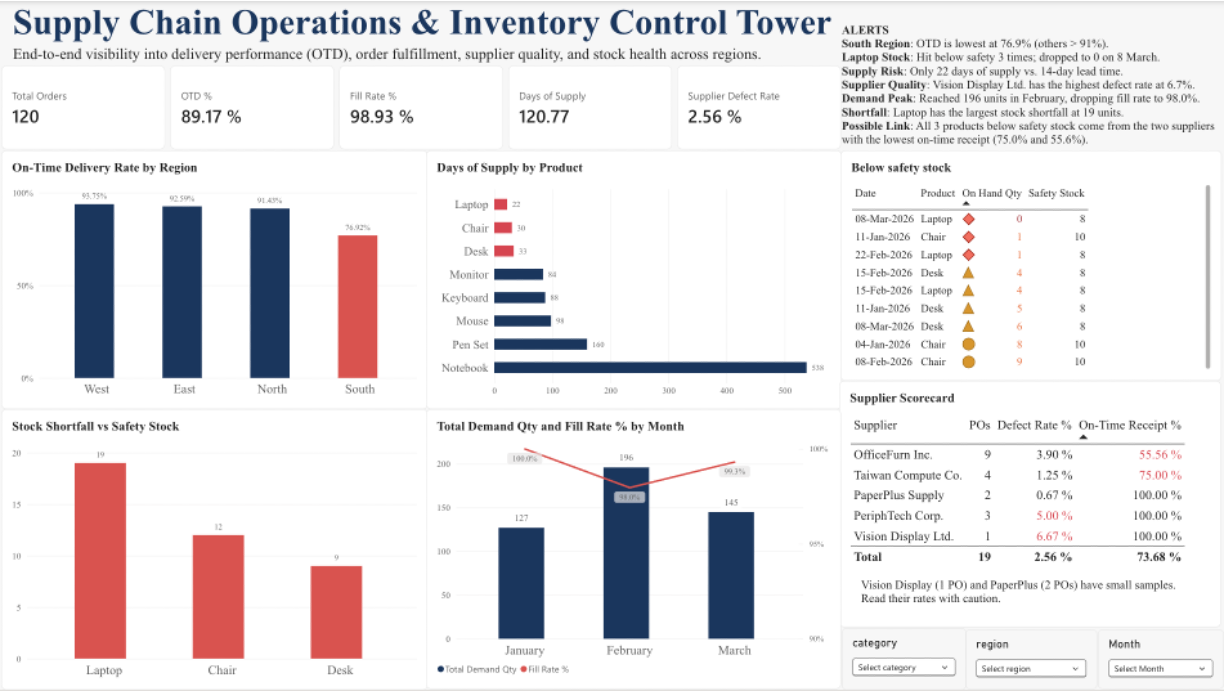

What the dashboard file says about the page in this screenshot:
{"tool":"powerbi","page":{"name":"Page 1","canvas":[1920,1080],"ordinal":0},"visuals":[{"type":"cardVisual","fields":{"Data":["fact_orders.Total Orders","fact_orders.OTD%","fact_orders.Fill Rate %","fact_inventory.Days of Supply","fact_inventory.Supplier Defect Rate"]},"box":[3,100.9,1321.1,132.8],"z":0},{"type":"clusteredColumnChart","title":"On-Time Delivery Rate by Region","fields":{"Category":["dim_region.region"],"Y":["fact_orders.OTD%"]},"box":[3,233.7,669.2,405.9],"z":1000},{"type":"clusteredColumnChart","title":"Stock Shortfall vs Safety Stock","fields":{"Category":["dim_product.product"],"Y":["fact_inventory.Shortfall Qty"]},"box":[3,639.6,669.2,440.4],"z":2000},{"type":"clusteredBarChart","title":"Days of Supply by Product","fields":{"Category":["dim_product.product"],"Y":["fact_inventory.Days of Supply"]},"box":[669.2,233.7,651.9,405.9],"z":3000},{"type":"tableEx","title":"Supplier Scorecard","fields":{"Values":["dim_supplier.supplier_name","fact_purchase_orders.PO Count","fact_inventory.Supplier Defect Rate","fact_purchase_orders.Supplier On-Time Receipt %"]},"box":[1316.8,594.7,598.9,386.5],"z":4000},{"type":"lineClusteredColumnComboChart","fields":{"Category":["dim_date.Date.Variation.Date Hierarchy.Month"],"Y":["fact_orders.Total Demand Qty"],"Y2":["fact_orders.Fill Rate %"]},"box":[668.9,640.9,651.1,439.1],"z":5000},{"type":"tableEx","title":"Below safety stock","fields":{"Values":["fact_inventory.snapshot_date","dim_product.product","Sum(fact_inventory.on_hand_qty)","Sum(fact_inventory.safety_stock)"]},"box":[1318.6,233.7,597.8,361.6],"z":6000},{"type":"listSlicer","fields":{"Values":["dim_product.category"]},"box":[1319.4,982.2,195.3,97.6],"z":7000},{"type":"listSlicer","fields":{"Values":["dim_region.region"]},"box":[1514.7,985.1,207.1,94.7],"z":8000},{"type":"listSlicer","fields":{"Values":["dim_date.Month"]},"box":[1722.5,985.3,197.5,94],"z":9000},{"type":"textbox","box":[100,100,300,300],"z":10000},{"type":"textbox","box":[100,100,300,300],"z":11000},{"type":"textbox","box":[19.7,0,1899.2,68.9],"z":12000},{"type":"textbox","box":[19.7,68.9,1840.2,32],"z":13000},{"type":"textbox","box":[1321,101,539,150],"z":14000},{"type":"textbox","box":[1320,34.6,599,199.1],"z":15000},{"type":"textbox","box":[100,100,300,300],"z":16000},{"type":"textbox","box":[1350,905,500,80],"z":21000}]}

Visuals, with their boxes in screenshot pixels (x1, y1, x2, y2), scaled from the page's 1920x1080 canvas onto the 1224x692 screenshot:
cardVisual - fact_orders.Total Orders x fact_orders.OTD%: BBox(2, 65, 844, 150)
"On-Time Delivery Rate by Region" clusteredColumnChart: BBox(2, 150, 429, 410)
"Stock Shortfall vs Safety Stock" clusteredColumnChart: BBox(2, 410, 429, 691)
"Days of Supply by Product" clusteredBarChart: BBox(427, 150, 842, 410)
"Supplier Scorecard" tableEx: BBox(839, 381, 1221, 629)
lineClusteredColumnComboChart - dim_date.Date.Variation.Date Hierarchy.Month x fact_orders.Total Demand Qty: BBox(426, 411, 841, 691)
"Below safety stock" tableEx: BBox(841, 150, 1222, 381)
listSlicer - dim_product.category: BBox(841, 629, 966, 691)
listSlicer - dim_region.region: BBox(966, 631, 1098, 691)
listSlicer - dim_date.Month: BBox(1098, 631, 1223, 691)
textbox: BBox(64, 64, 255, 256)
textbox: BBox(64, 64, 255, 256)
textbox: BBox(13, 0, 1223, 44)
textbox: BBox(13, 44, 1186, 65)
textbox: BBox(842, 65, 1186, 161)
textbox: BBox(841, 22, 1223, 150)
textbox: BBox(64, 64, 255, 256)
textbox: BBox(861, 580, 1179, 631)
